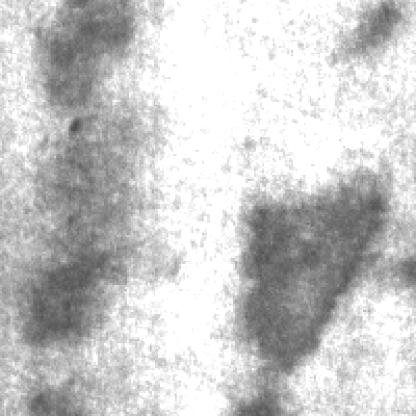patches: (245, 181, 391, 401), (29, 227, 129, 343), (42, 0, 146, 108), (362, 0, 402, 46)
